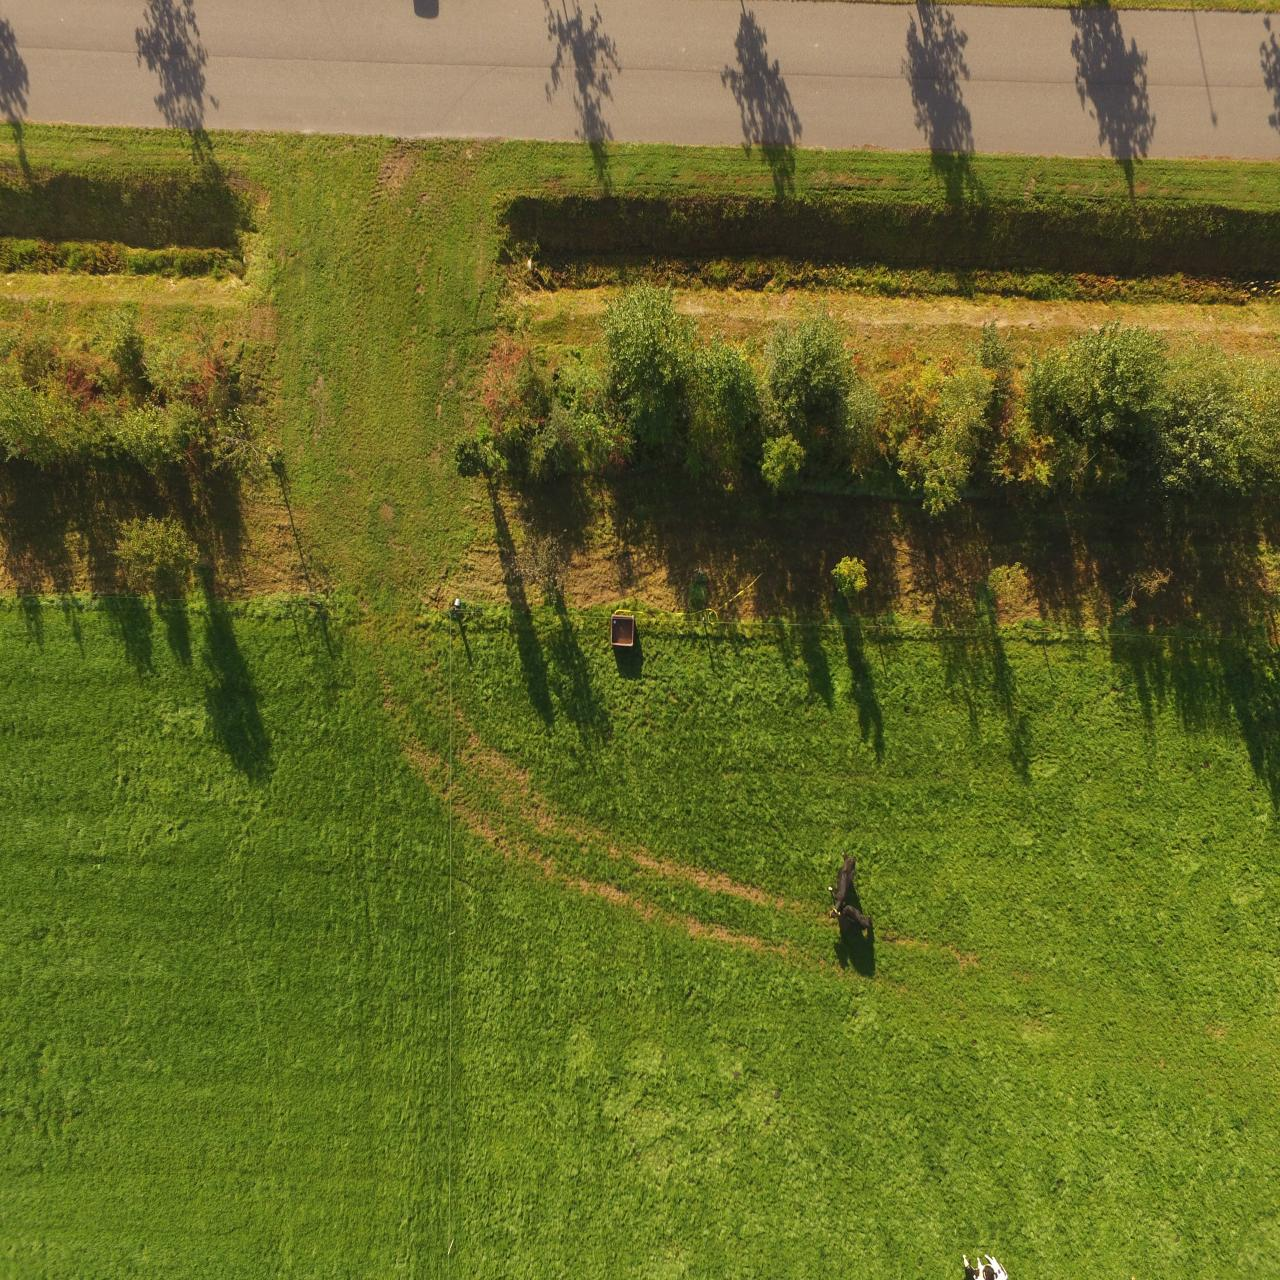cow: (828, 840, 858, 928), (836, 898, 873, 937)
